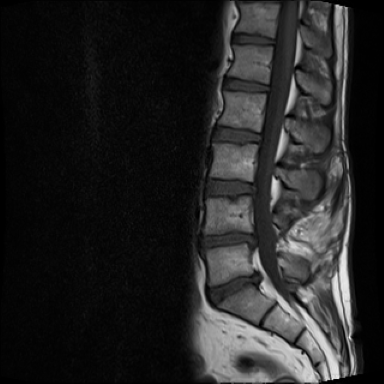Lumbar Disc Bulge (LDB): (201, 265, 269, 312), (196, 225, 264, 255), (201, 175, 265, 201)
Normal IVD: (206, 119, 267, 148), (216, 74, 275, 95), (229, 28, 280, 51)
Spinal Stenosis (SS): (248, 266, 267, 290), (247, 229, 265, 252), (248, 178, 265, 199)
